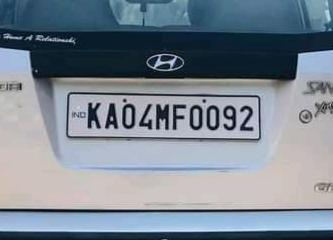0: (120, 100, 138, 133), (204, 102, 221, 132), (189, 100, 204, 133)
2: (237, 102, 256, 135)
4: (138, 104, 154, 133)
9: (221, 103, 238, 132)
A: (104, 99, 121, 132)
F: (171, 100, 187, 133)
K: (85, 99, 103, 132)
m: (153, 101, 170, 134)
